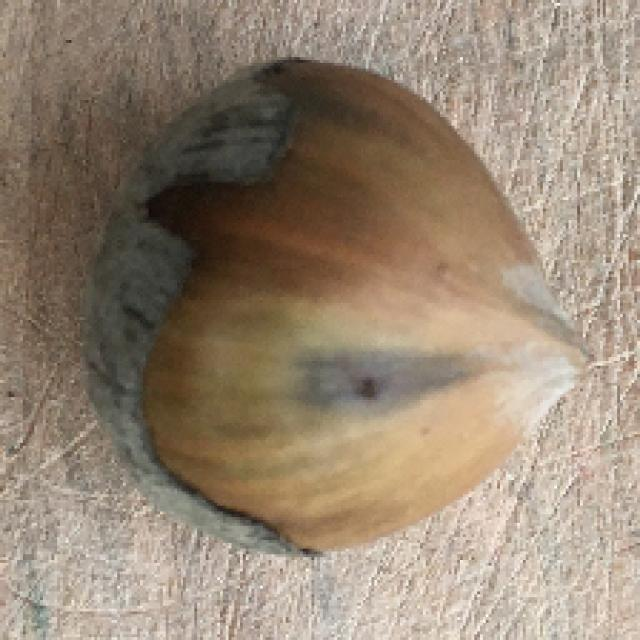damagedHazelnut: (81, 51, 579, 562)
